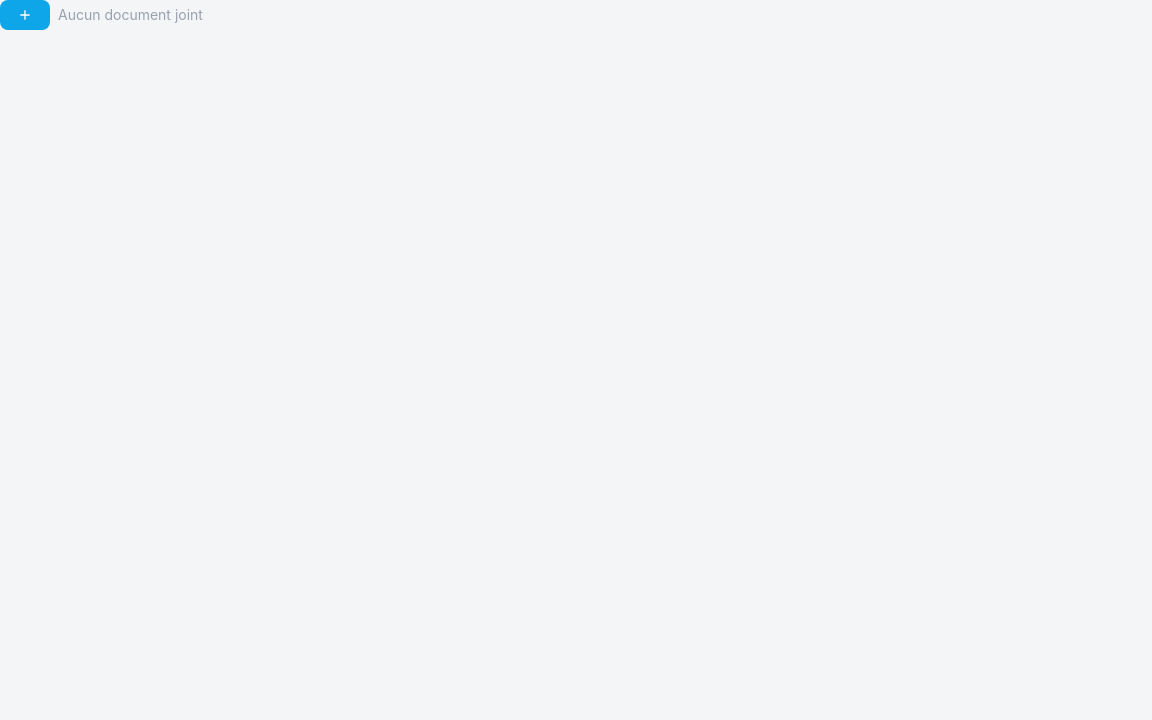
Test: DocumentAttachment › refuse la validation sans fichier sélectionné
Click the button named "Ajouter un document" at (25, 15), box [0, 0, 50, 30]
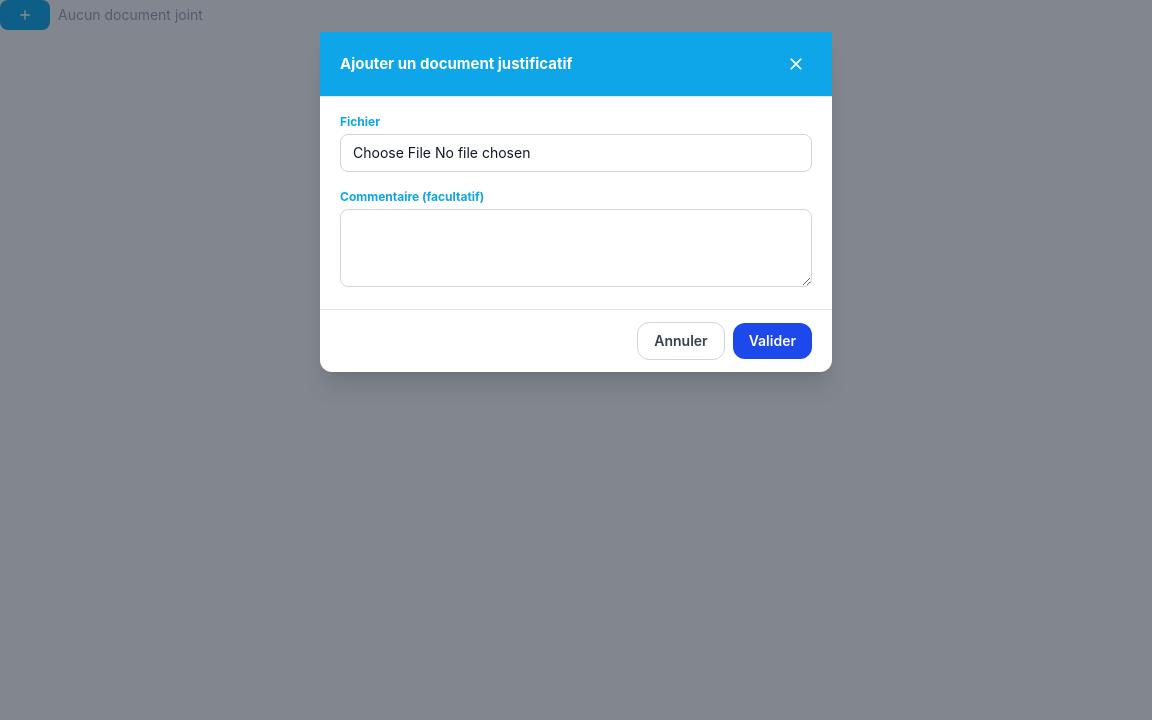
Click the button "Valider" at (772, 341), box [733, 323, 812, 359]
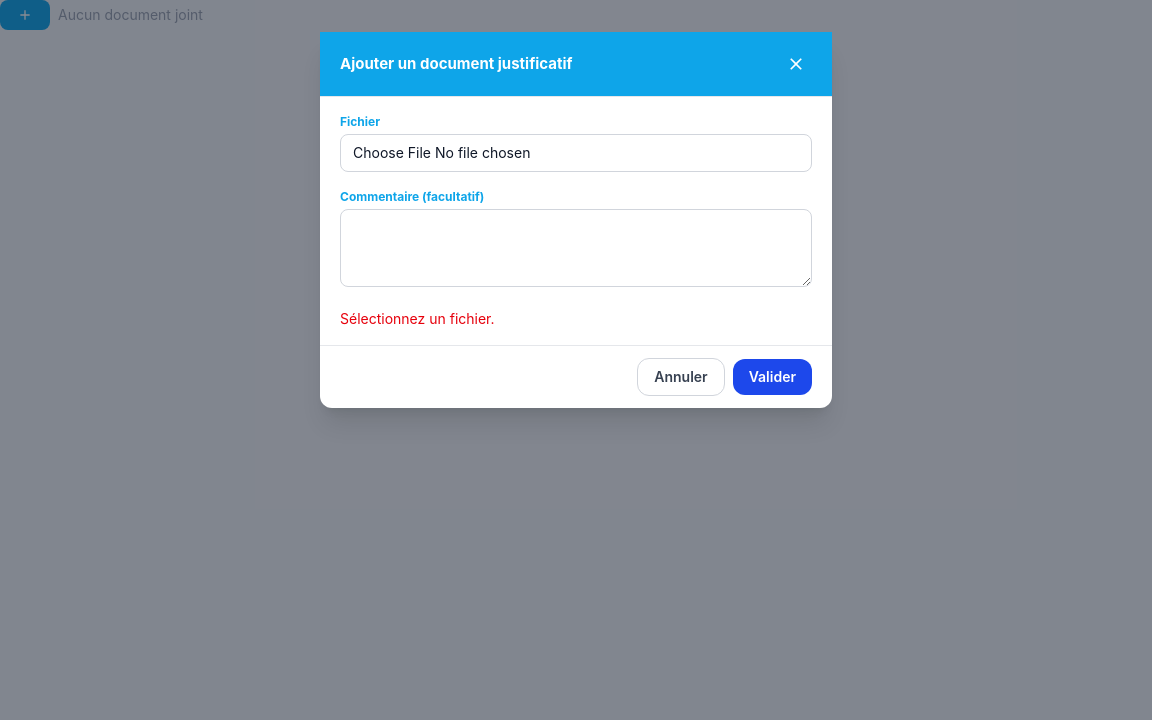
Expected: the text "Sélectionnez un fichier." is shown, [340, 310, 494, 327]
